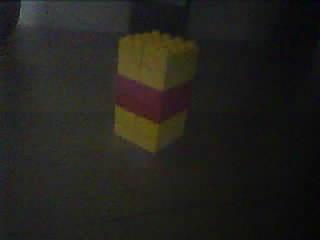lego: (112, 28, 199, 152)
